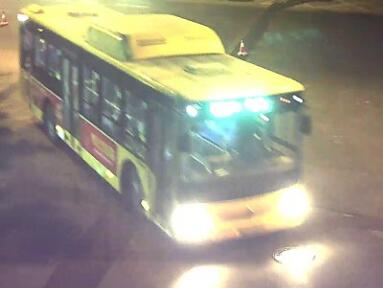bus: (20, 2, 313, 246)
